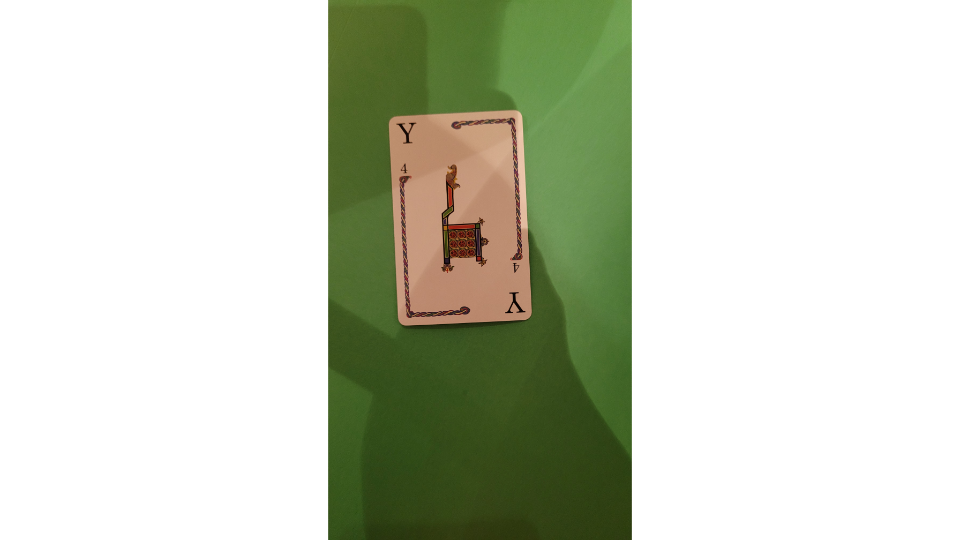Y: (382, 108, 536, 328)
